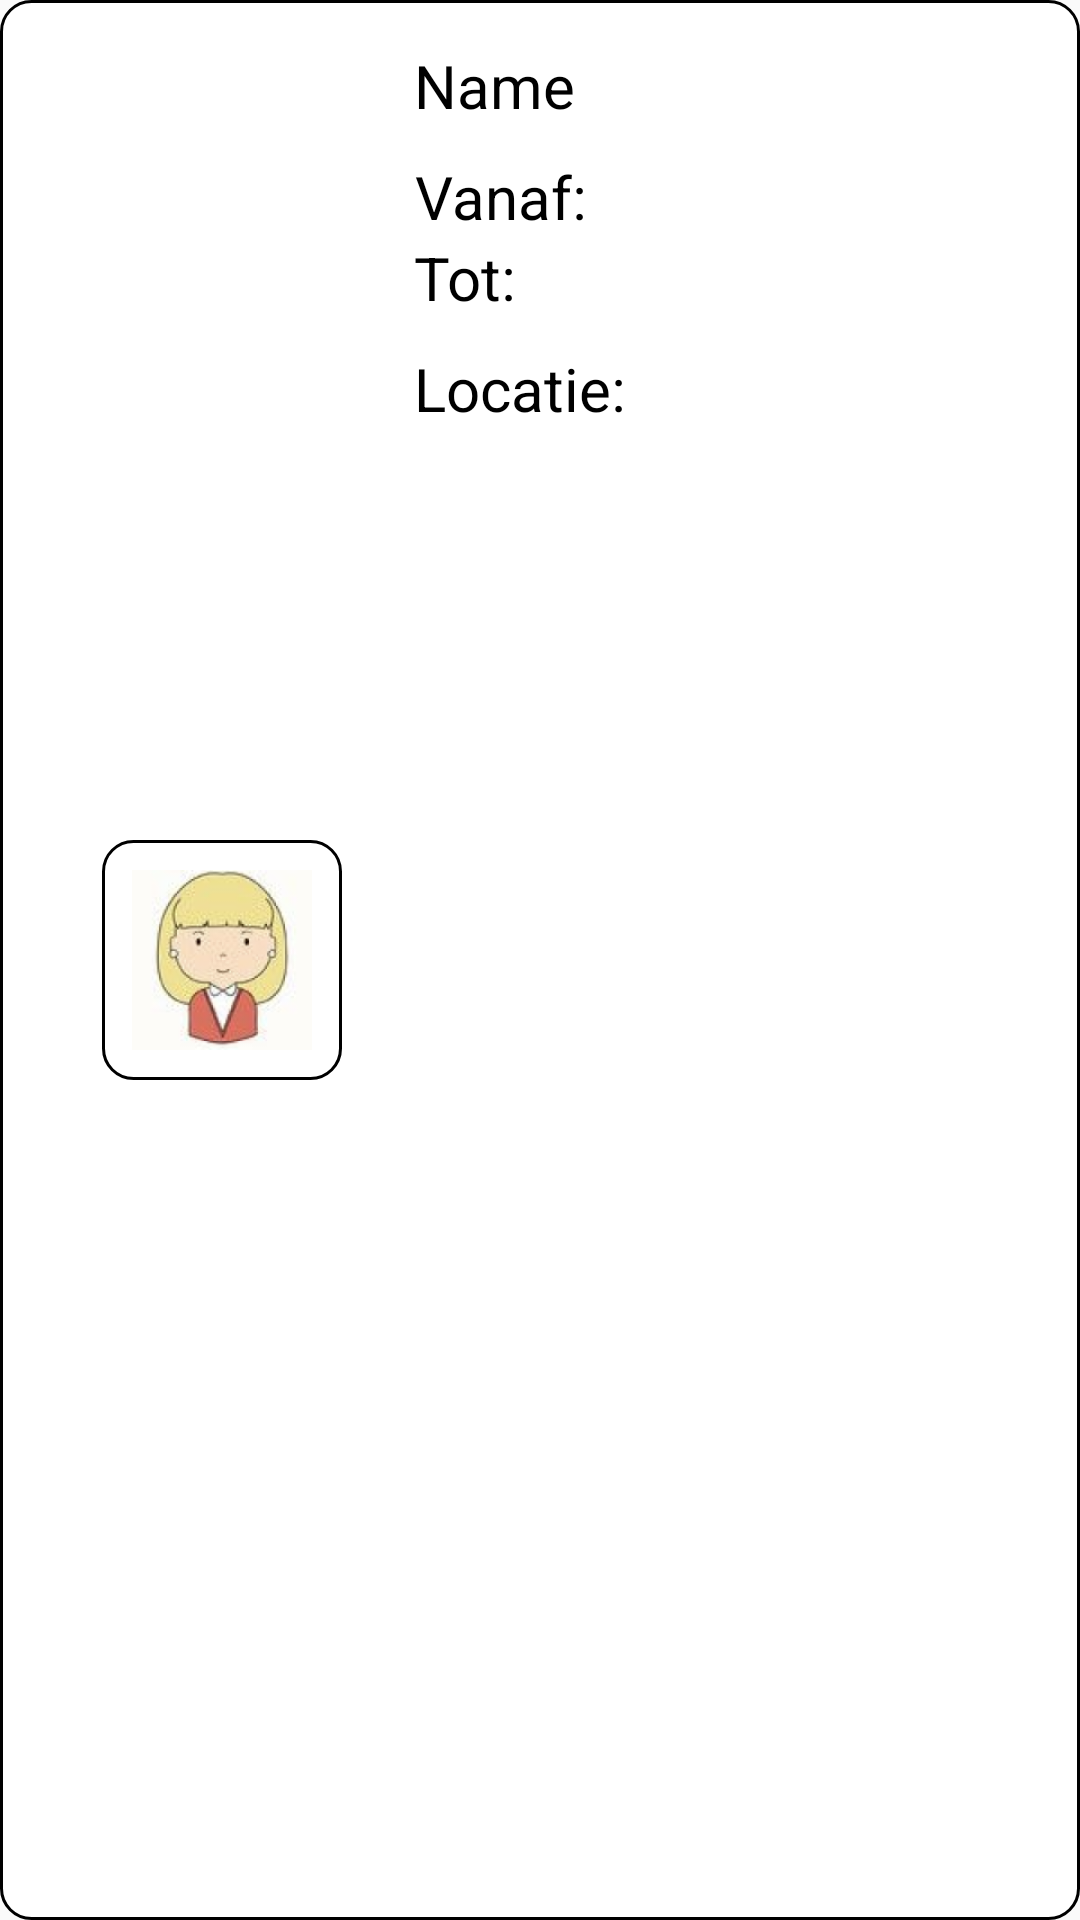

Icon click points for this 1080×1920 phone screenshot, format (x,y):
Profile picture: (222,960)
